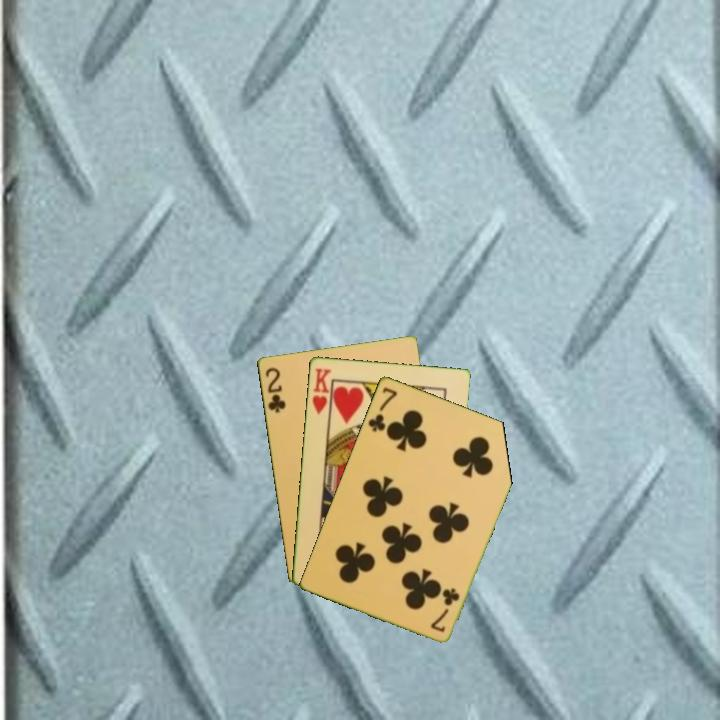2c: (261, 364, 288, 416)
7c: (364, 383, 400, 434), (427, 584, 462, 635)
Kh: (308, 364, 334, 420)
